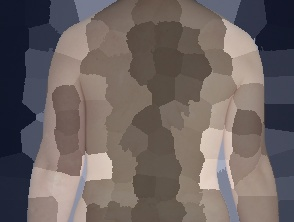vitiligo: (25, 0, 280, 222)
